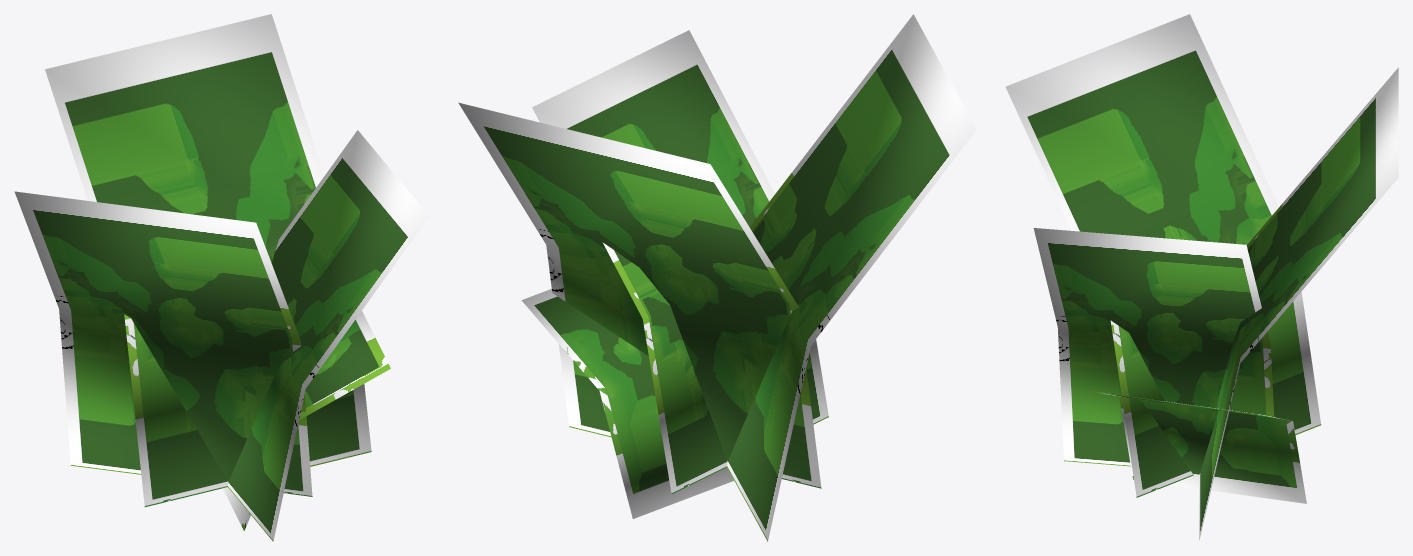
Rendered from plant4.fbx.
3 views of the same model, side by side, from view 1: azimuth 30°, elevation 25°; view 2: azimuth 150°, elevation 25°; view 3: azimuth 270°, elevation 25° (orthographic). The views are drawn at different scales.
Visible parts, largest first — view 1: pPlane42; view 2: pPlane42; view 3: pPlane42.
Part boxes in pixels (left/top/right/bottom): pPlane42: left=14, top=14, right=429, bottom=541; pPlane42: left=458, top=14, right=976, bottom=541; pPlane42: left=1005, top=14, right=1398, bottom=540.
Bounding box in the file's own units: 0.4089 × 0.398 × 0.3728.
